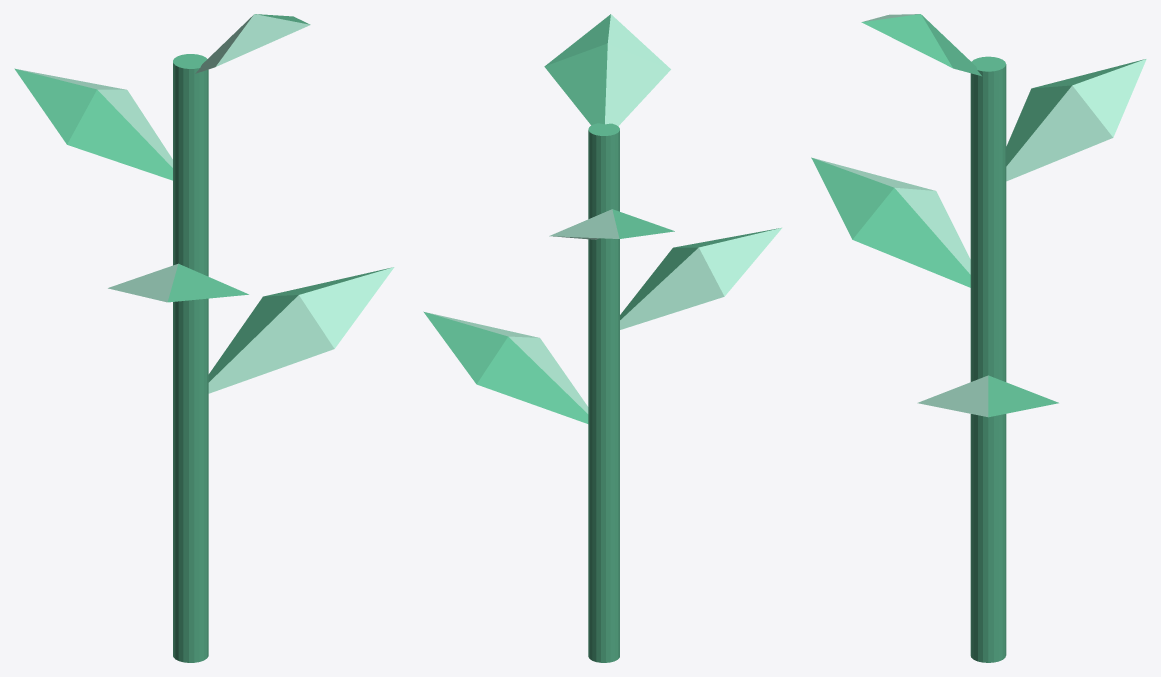
File: planta.glb
The picture shows the model from 3 angles, left to right: view 1: azimuth 30°, elevation 25°; view 2: azimuth 150°, elevation 25°; view 3: azimuth 270°, elevation 25°; orthographic projection. The views are drawn at different scales.
Size of the model in its own units: 0.0713 by 0.143 by 0.0659.
